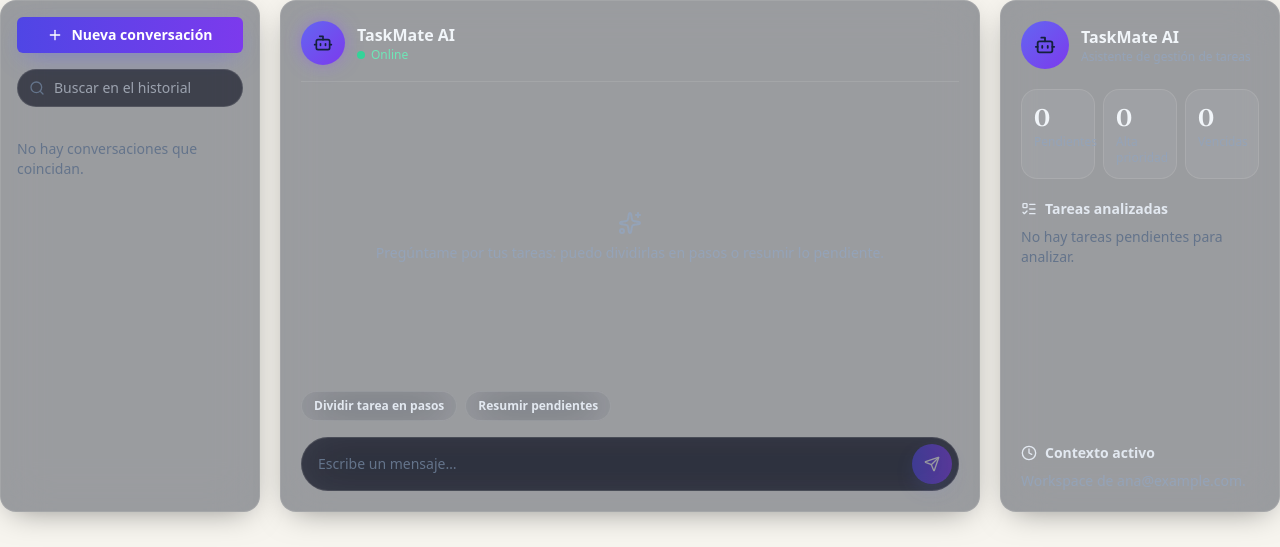
Scenario: Chat con IA › persiste los hilos en el navegador y los recupera al volver
In the field named "Mensaje para TaskMate AI": coordinates (611, 464) [318,454,904,474], type "Recuérdame esto"
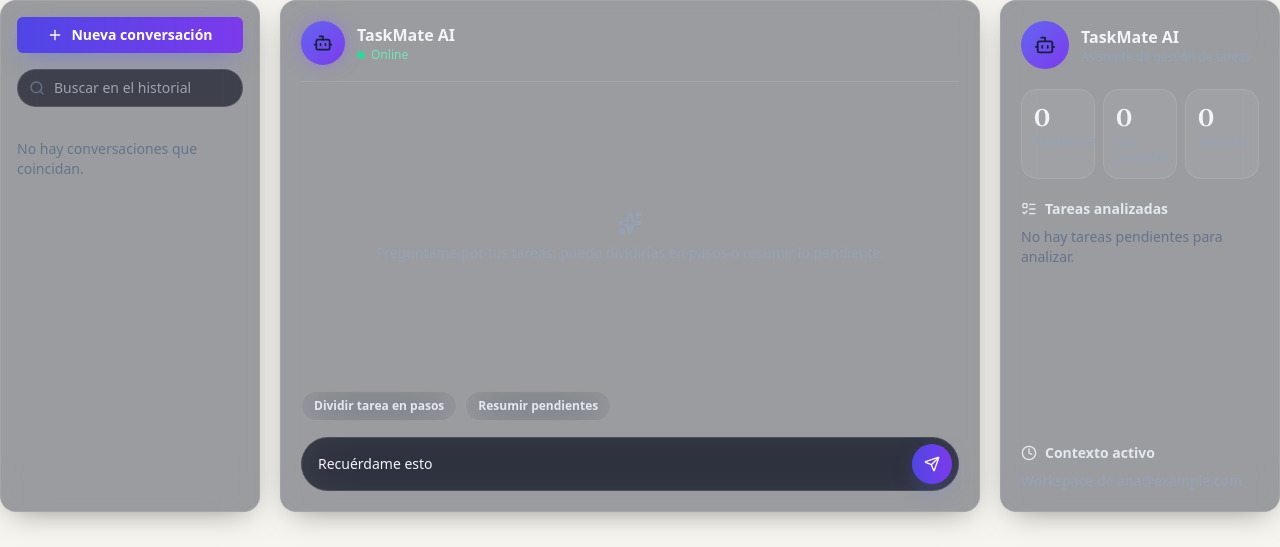
Click the button named "Enviar mensaje": coordinates (932, 464) [912,444,952,484]
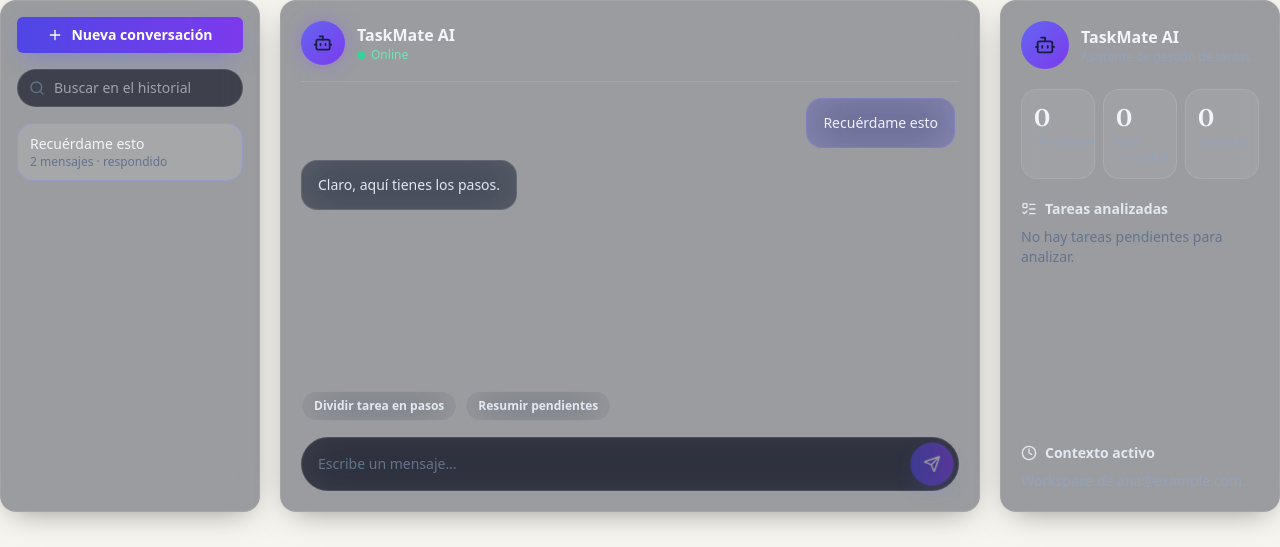
Result: the text "Claro, aquí tienes los pasos." is shown at [301,160,517,210]
Result: the 2nd text "Recuérdame esto" is shown at [30,134,145,153]
